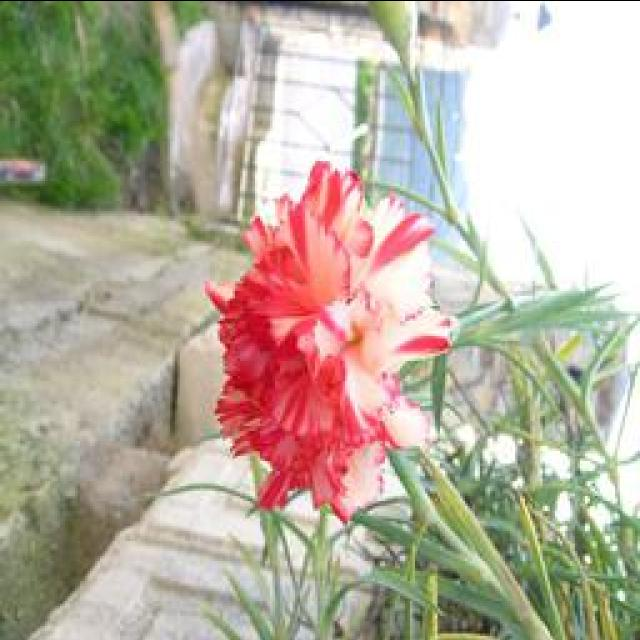carnation: (180, 139, 476, 532)
